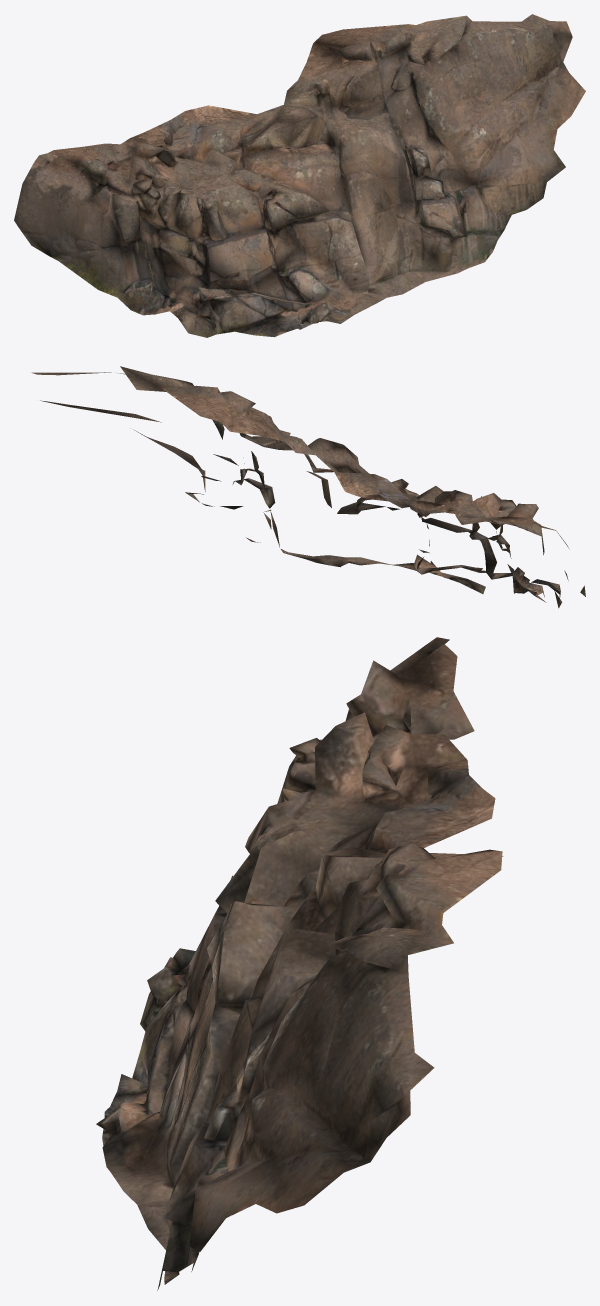
The model's file is hill_cliff.glb.
The picture shows the model from 3 angles, top to bottom: view 1: azimuth 30°, elevation 25°; view 2: azimuth 150°, elevation 25°; view 3: azimuth 270°, elevation 25°; orthographic projection. The views are drawn at different scales.
Visible parts, largest first — view 1: hill_cliff; view 2: hill_cliff; view 3: hill_cliff.
Boxes of the visible parts, x1,y1,x2,y2 form: hill_cliff: [14, 14, 585, 337]; hill_cliff: [31, 366, 585, 608]; hill_cliff: [96, 637, 503, 1290].
Size of the model in its own units: 20.18 by 7.16 by 6.49.
Materials: 1 (1 with a texture image).
